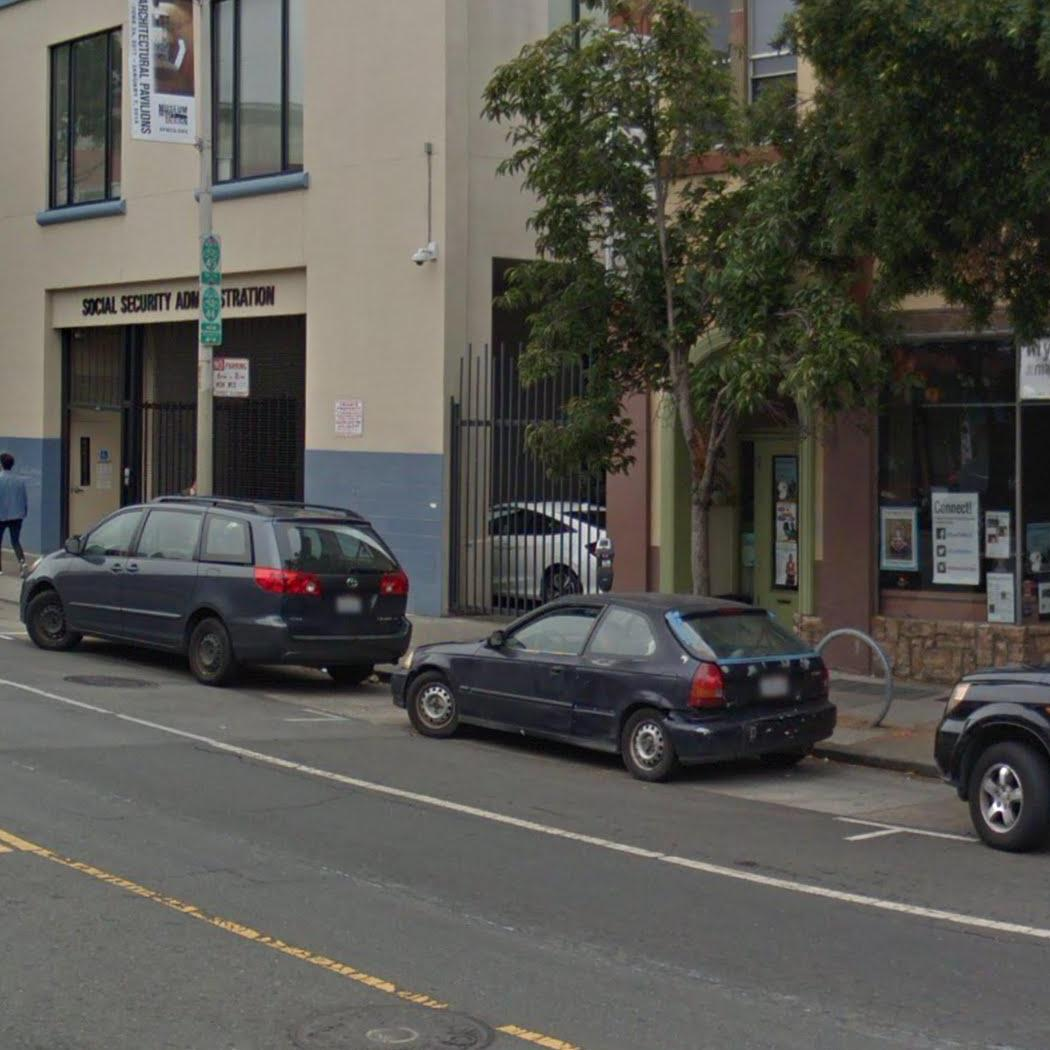No Parking: (211, 356, 251, 400)
